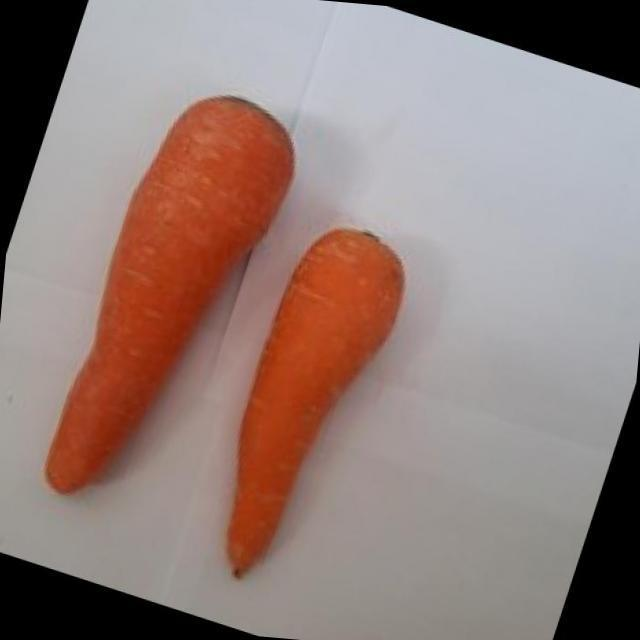carrot: (46, 96, 294, 492), (48, 98, 294, 492), (228, 229, 402, 576)
